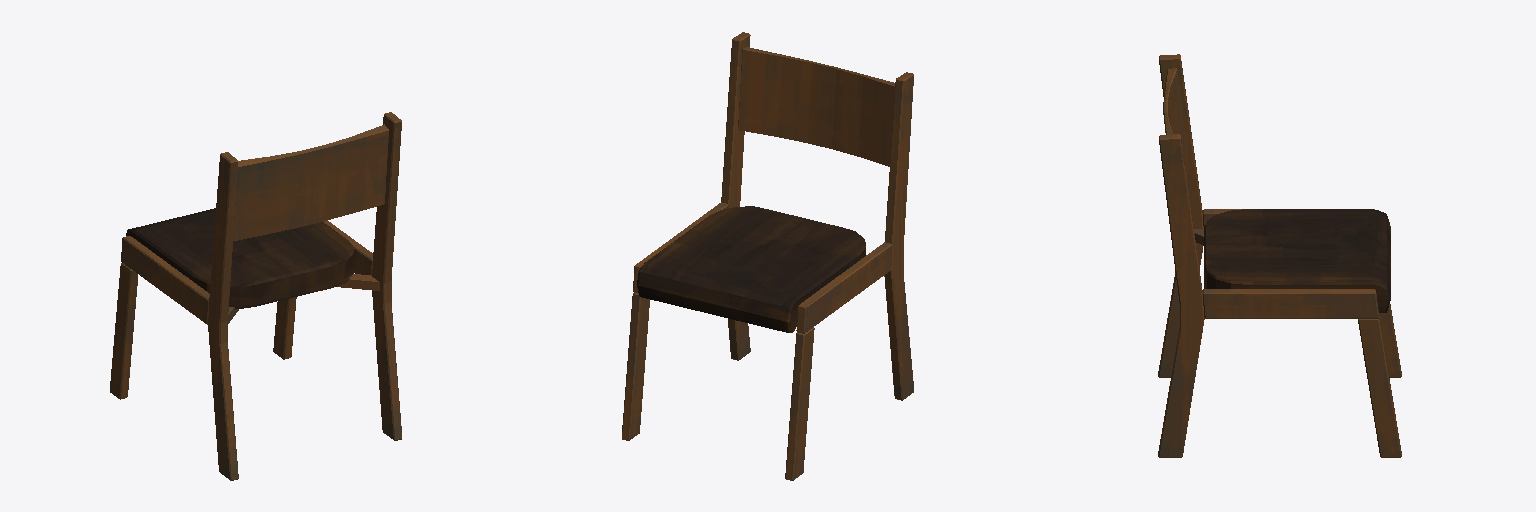
The picture shows the model from 3 angles: view 1: azimuth 30°, elevation 25°; view 2: azimuth 150°, elevation 25°; view 3: azimuth 270°, elevation 25°; orthographic projection.
Visible parts, largest first — view 1: Silla_H2; view 2: Silla_H2; view 3: Silla_H2.
Boxes of the visible parts, x1,y1,x2,y2 form: Silla_H2: [110, 112, 401, 480]; Silla_H2: [622, 32, 913, 480]; Silla_H2: [1158, 54, 1401, 457].
Bounding box in the file's own units: 0.465 × 0.8258 × 0.5697.
Materials: 1 (1 with a texture image).